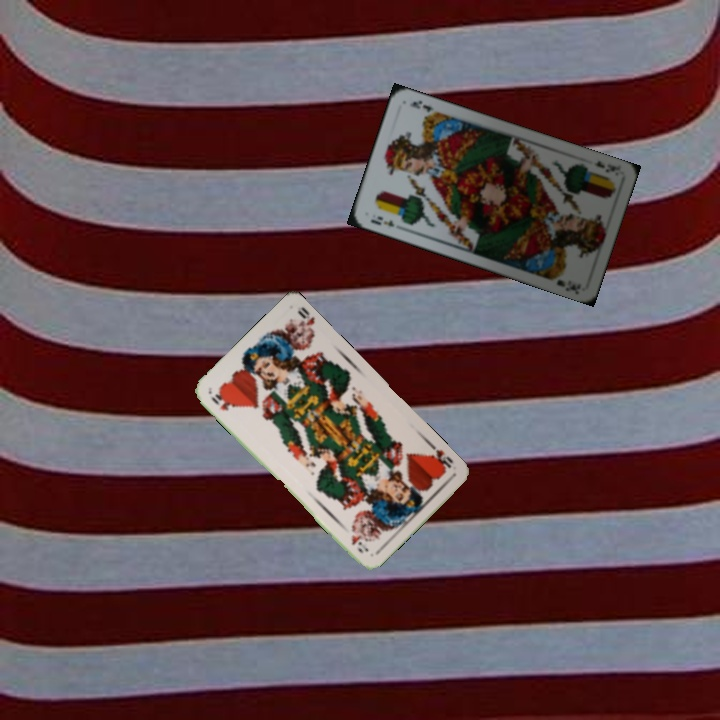EK: (590, 157, 623, 175), (367, 212, 397, 229)
HO: (425, 445, 456, 474), (207, 388, 236, 413)
